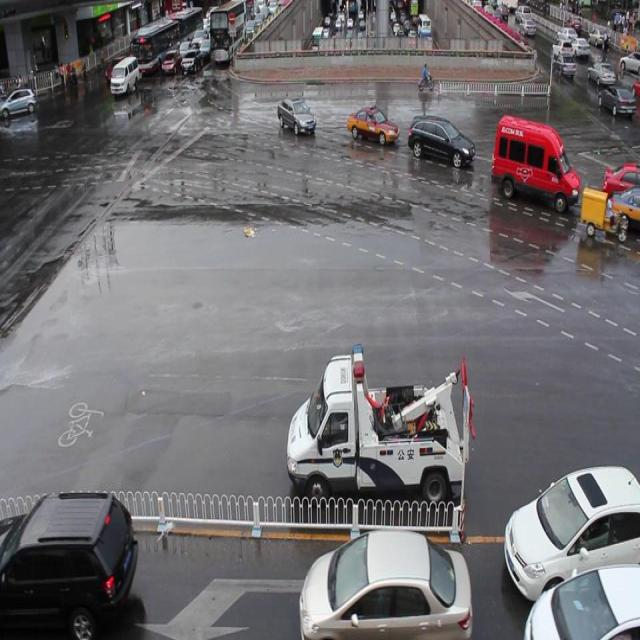bus: (287, 344, 475, 513)
car: (0, 488, 138, 640), (301, 522, 471, 640), (505, 463, 640, 602), (524, 563, 640, 640), (408, 116, 474, 170), (347, 105, 398, 145), (276, 95, 316, 136), (602, 159, 640, 202), (606, 186, 640, 231)
truck: (490, 113, 580, 213)
